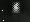person: (13, 3, 21, 14)
